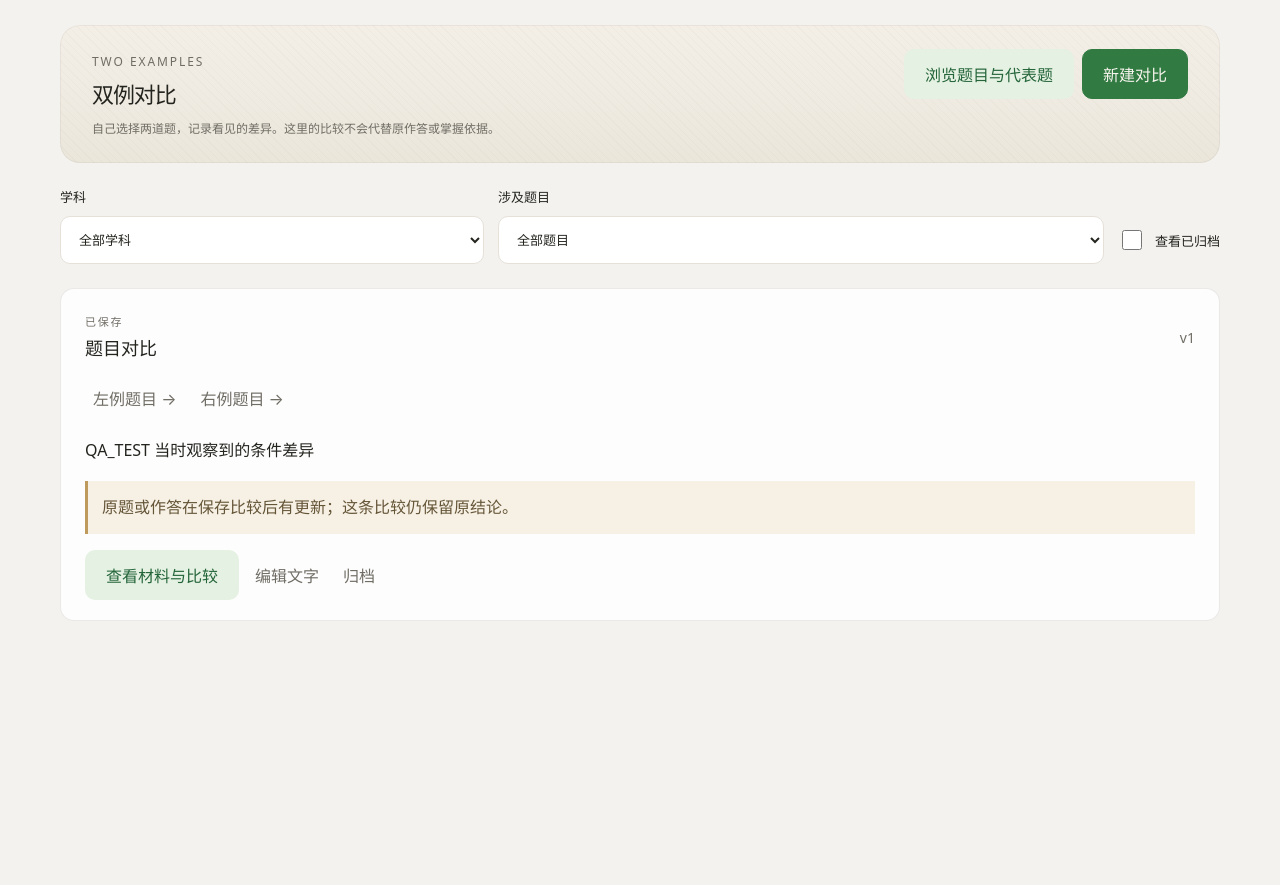
it: problem comparison workflows › shows a source-changed warning while preserving the saved comparison text and current original materials
Check: the text "原题或作答在保存比较后有更新；这条比较仍保留原结论。" is shown, box top-left (85, 481), bottom-right (1195, 534)
Click the button "查看材料与比较".
click(162, 575)  # box top-left (85, 550), bottom-right (239, 600)
(page scrolled)
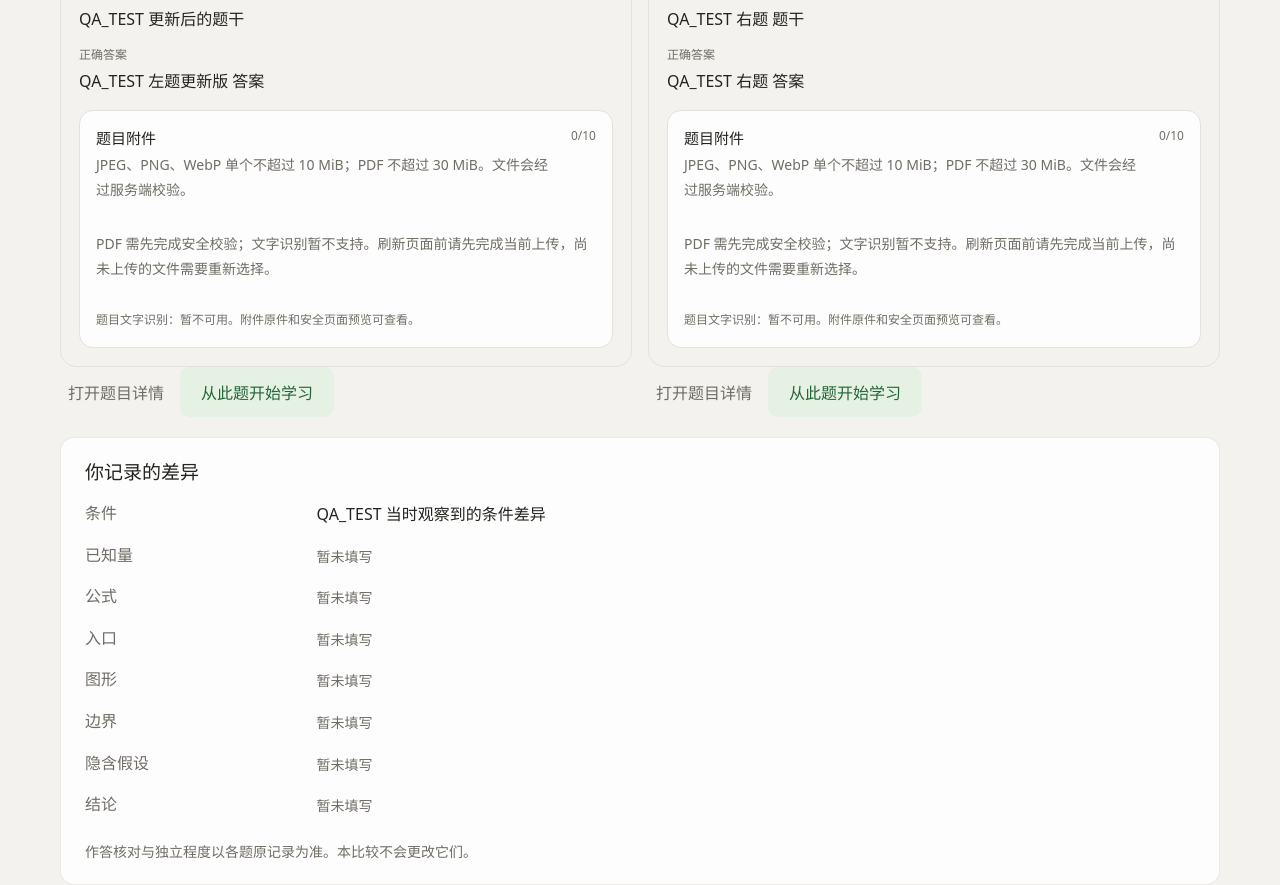
Check: the text "QA_TEST 当时观察到的条件差异" is shown, box top-left (317, 503), bottom-right (546, 525)
Check: the text "QA_TEST 更新后的题干" is shown, box top-left (79, 8), bottom-right (244, 30)
